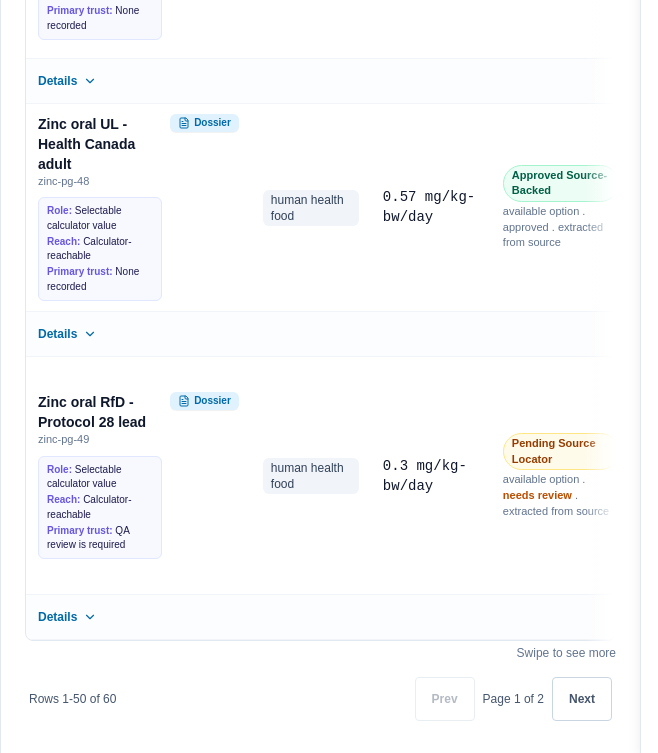
Scenario: EvidenceLibrary Values-table pagination (integration, 60 rows) › navigates to the last page, rendering only the remaining rows
(page scrolled)
Expected: the text "Page 1 of 2" is shown, [483,691,544,707]
Click the button "Next" at (582, 699), box [552,677,612,721]
(page scrolled)
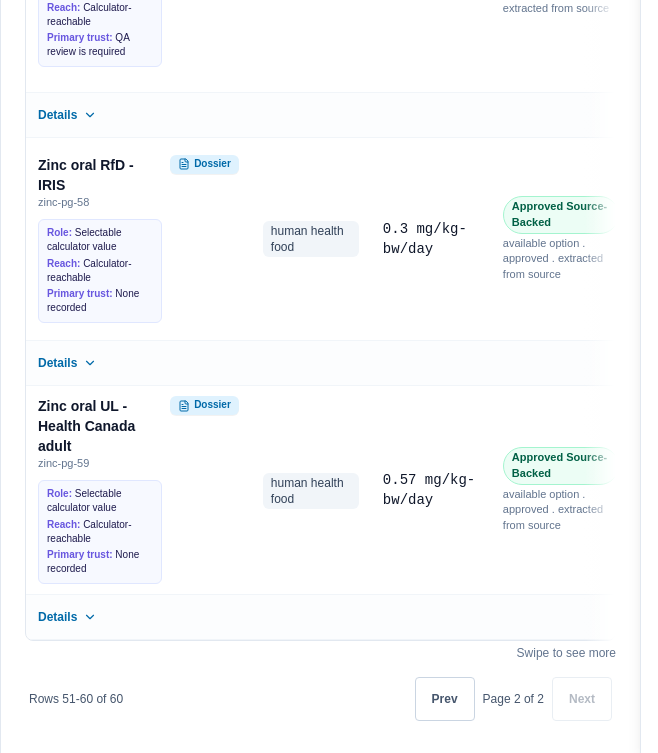
Result: the text "Page 2 of 2" is shown at [483,691,544,707]
Result: the text "Rows 51-60 of 60" is shown at [29,691,123,707]
